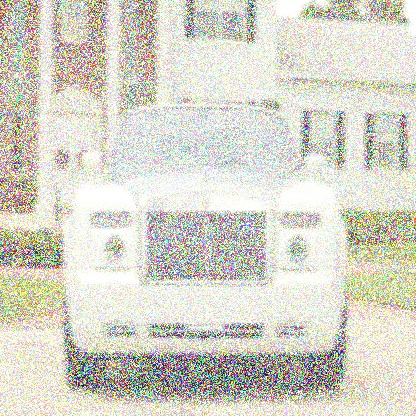Vehicle: (62, 104, 351, 397)
